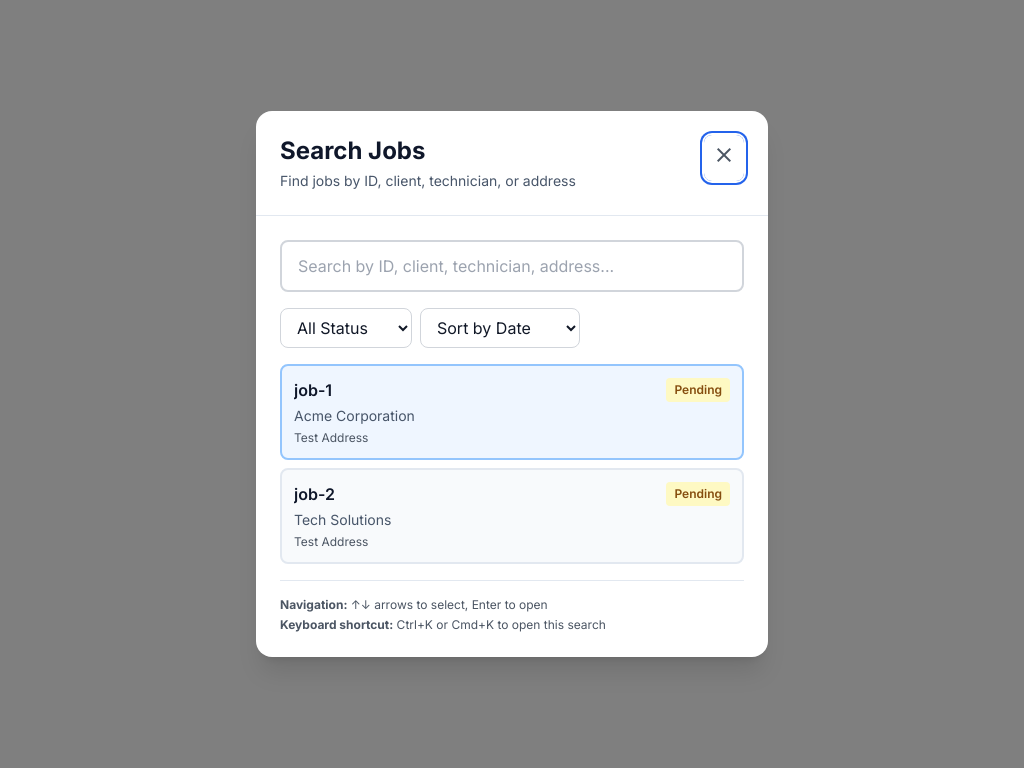
Scenario: QuickSearchModal › searches by client name
This screenshot has width=1024, height=768.
In the field with placeholder "Search by ID, client, technician, address...": (512, 266) [280,240,744,292], type "Acme"
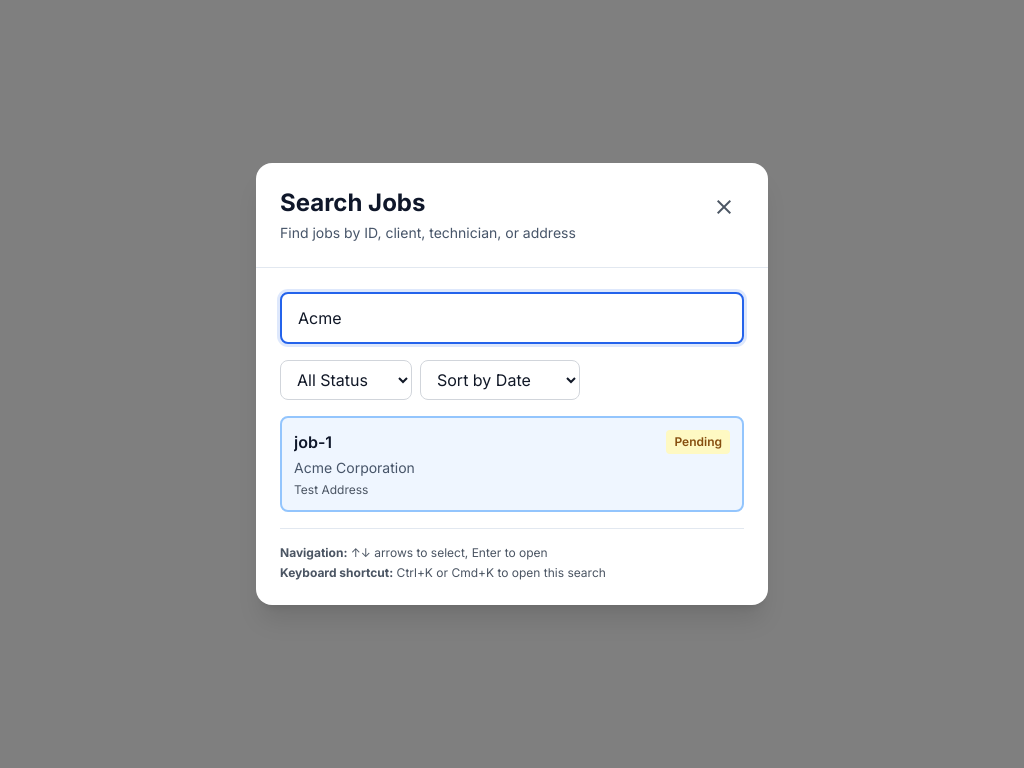
Expected: the text "Acme Corporation" is shown, [294,459,415,476]
Expected: the button "Tech Solutions" is gone
